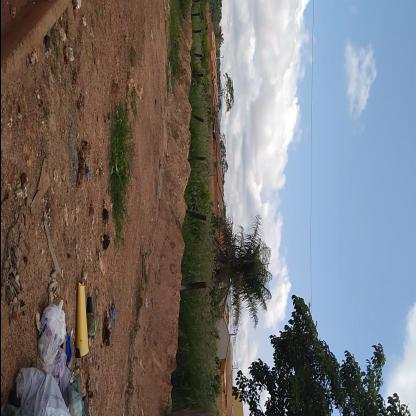lixo: (13, 278, 91, 416)
